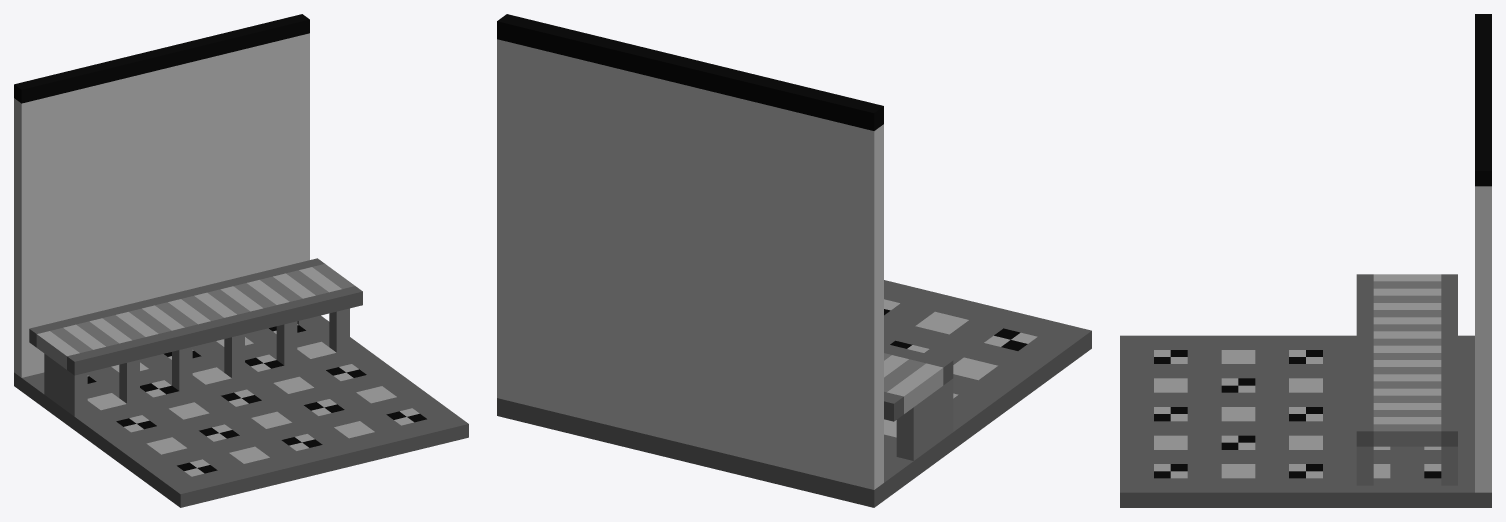
The model's file is level_one-3.obj.
3 views of the same model, side by side, from view 1: azimuth 30°, elevation 25°; view 2: azimuth 150°, elevation 25°; view 3: azimuth 270°, elevation 25° (orthographic). The views are drawn at different scales.
Visible parts, largest first — view 1: level_one-3; view 2: level_one-3; view 3: level_one-3.
Part boxes in pixels (<box>): level_one-3: <box>14,14,468,507</box>; level_one-3: <box>497,14,1091,507</box>; level_one-3: <box>1120,14,1491,507</box>.
Bounding box in the file's own units: 22 × 22 × 22.
Materials: 1 (1 with a texture image).
